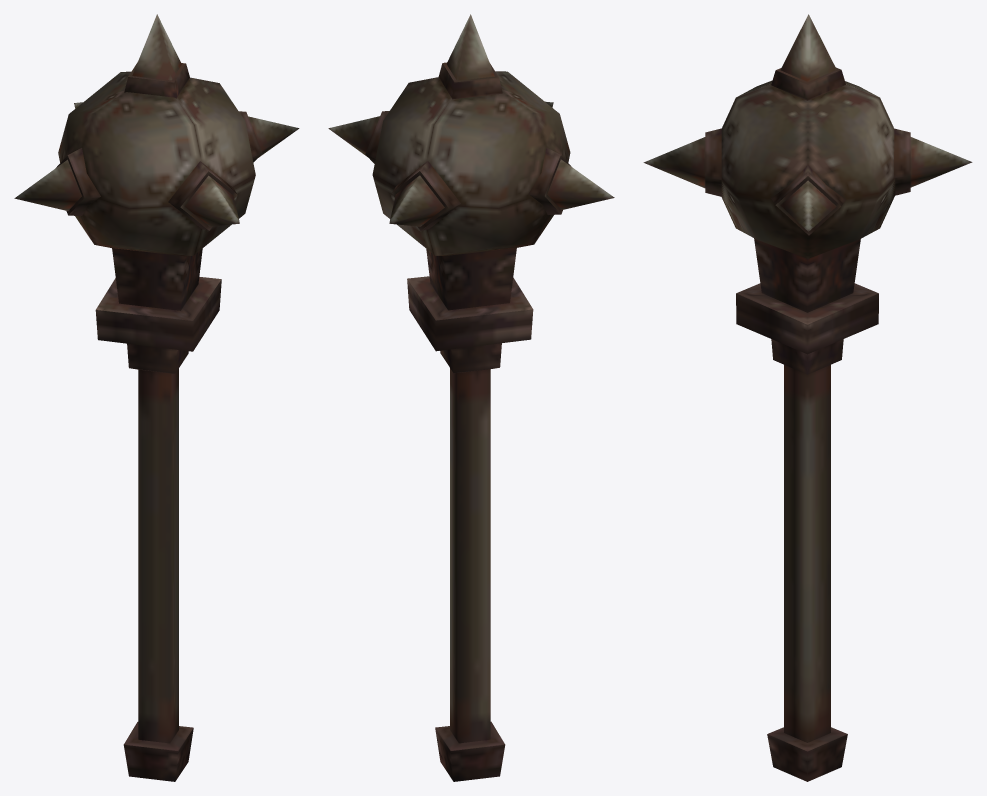
The model's file is greathammer_dwarf03_cc76db2c.glb.
The picture shows the model from 3 angles, left to right: view 1: azimuth 30°, elevation 25°; view 2: azimuth 150°, elevation 25°; view 3: azimuth 270°, elevation 25°; orthographic projection.
Bounding box in the file's own units: 0.7836 × 1.98 × 0.7836.
Materials: 1 (1 with a texture image).
